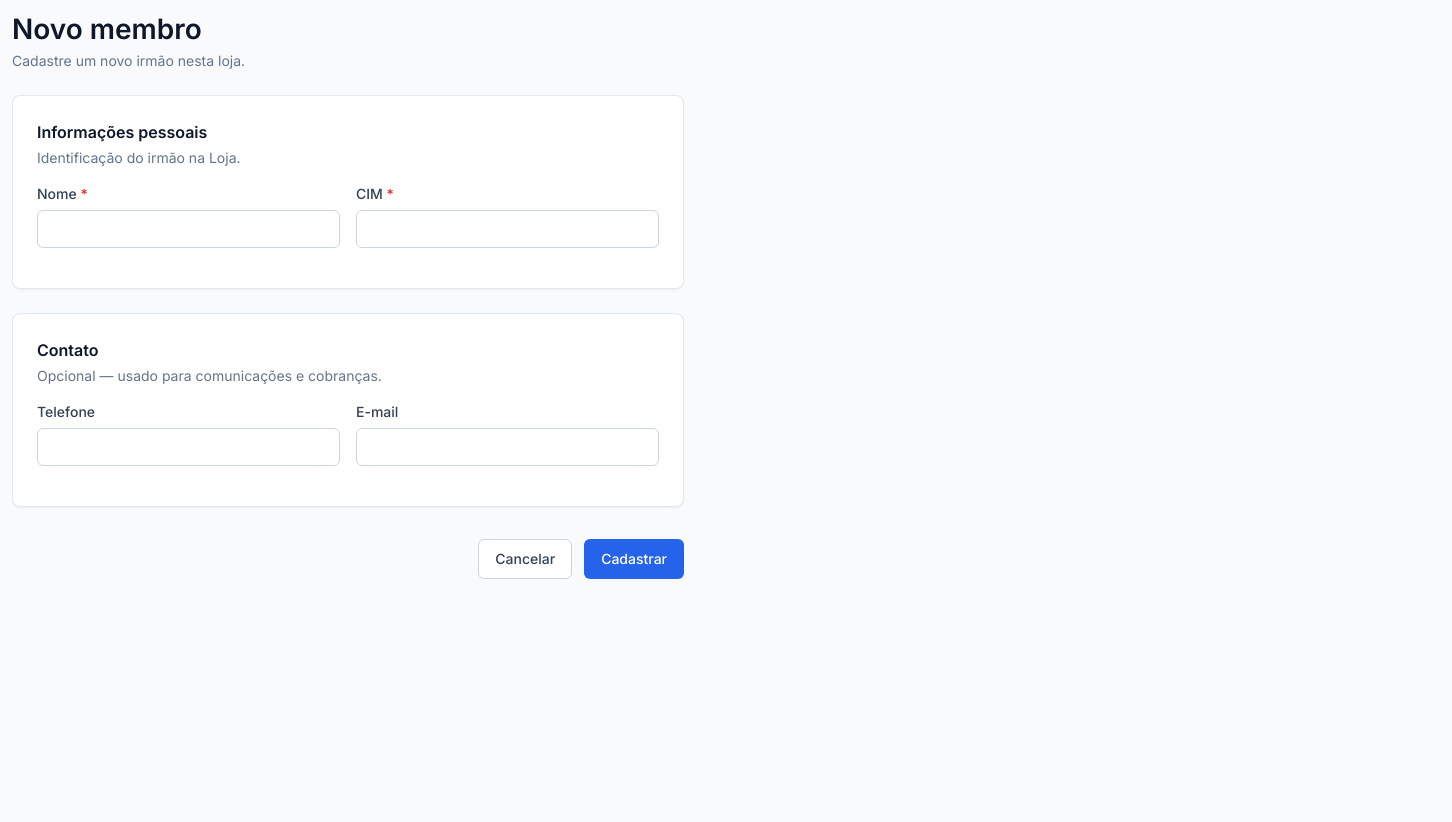
Test: MembroFormPage (criação) › mostra mensagem de erro amigável quando a API rejeita (ex.: CIM duplicado)
Type "Outro Membro" into the field labelled "Nome *" at x=188, y=229, box [37,210,340,248]
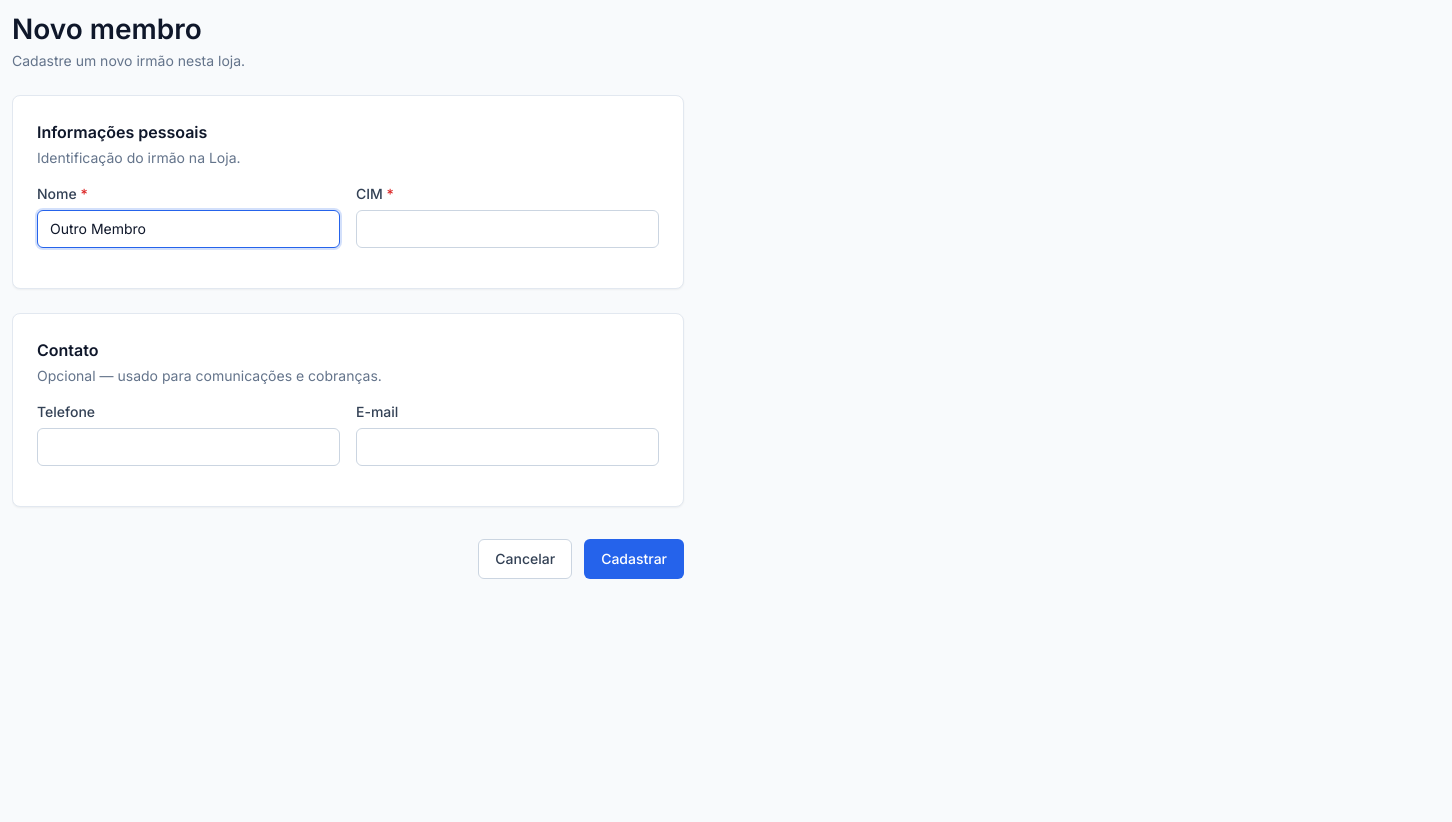
Type "11111" into the field labelled "CIM *" at x=508, y=229, box [356,210,659,248]
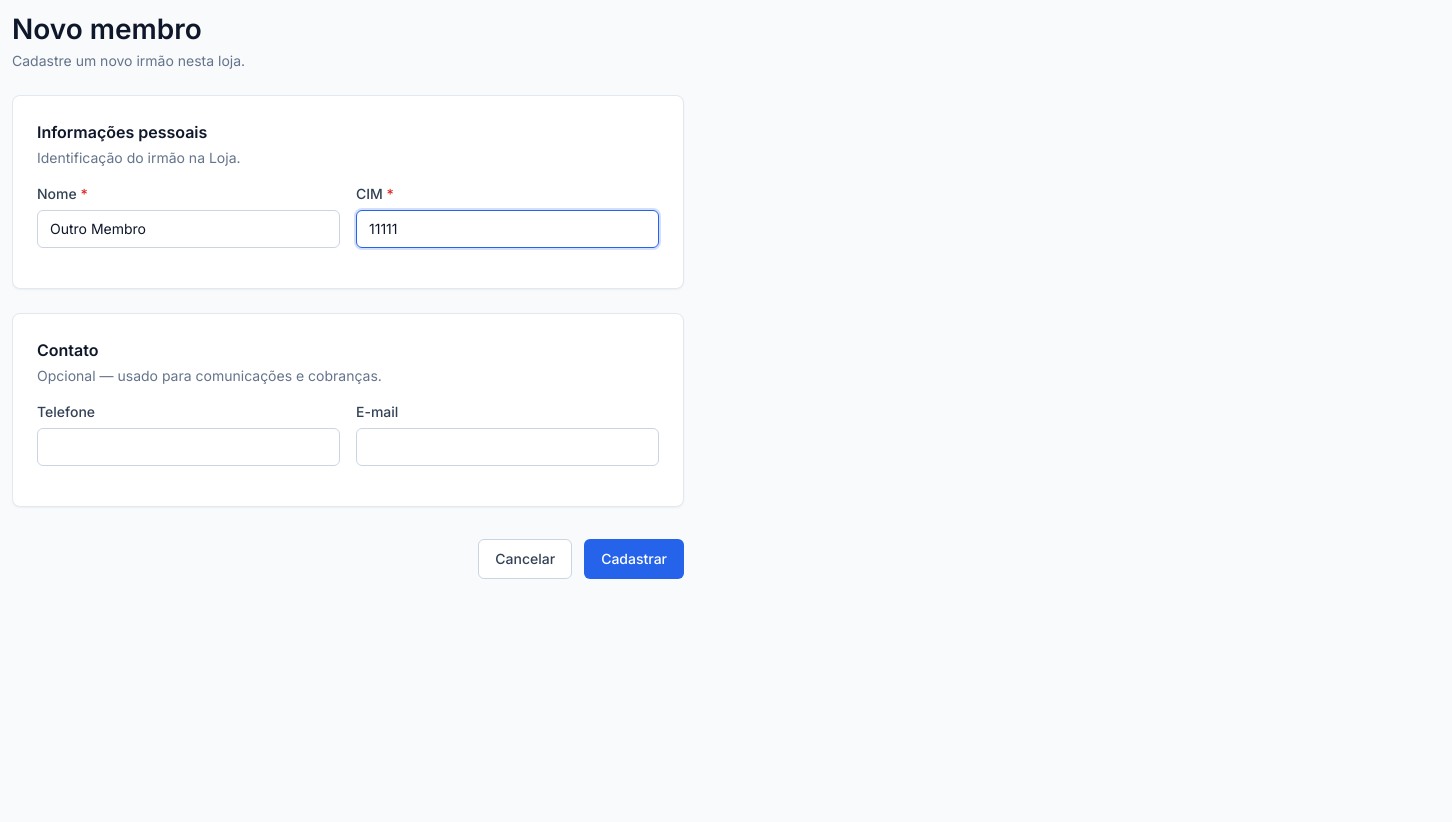
Click the button "Cadastrar" at x=634, y=559, box [584,539,684,579]
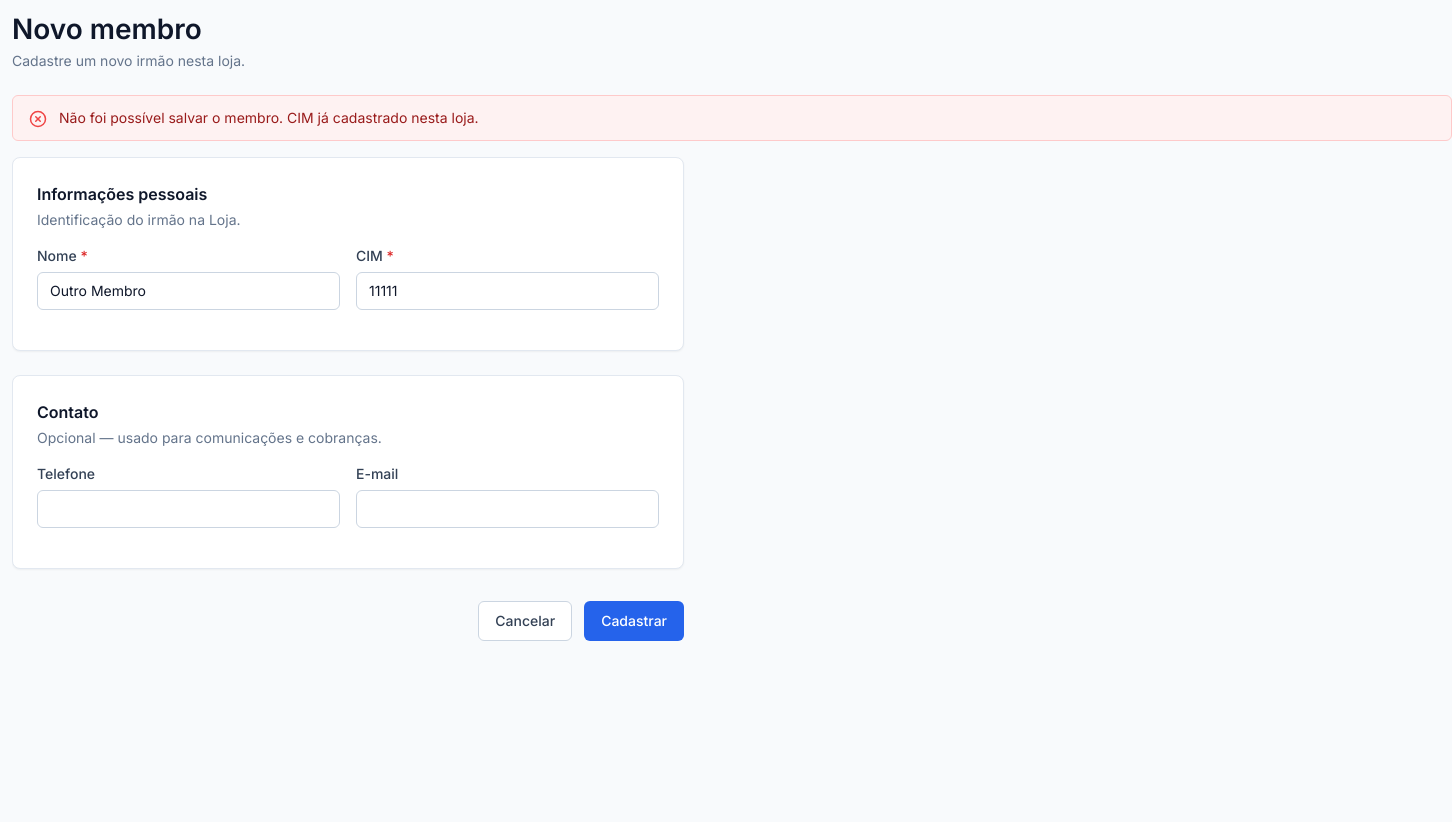
Result: the text "CIM já cadastrado nesta loja." is shown at [287,109,478,126]
